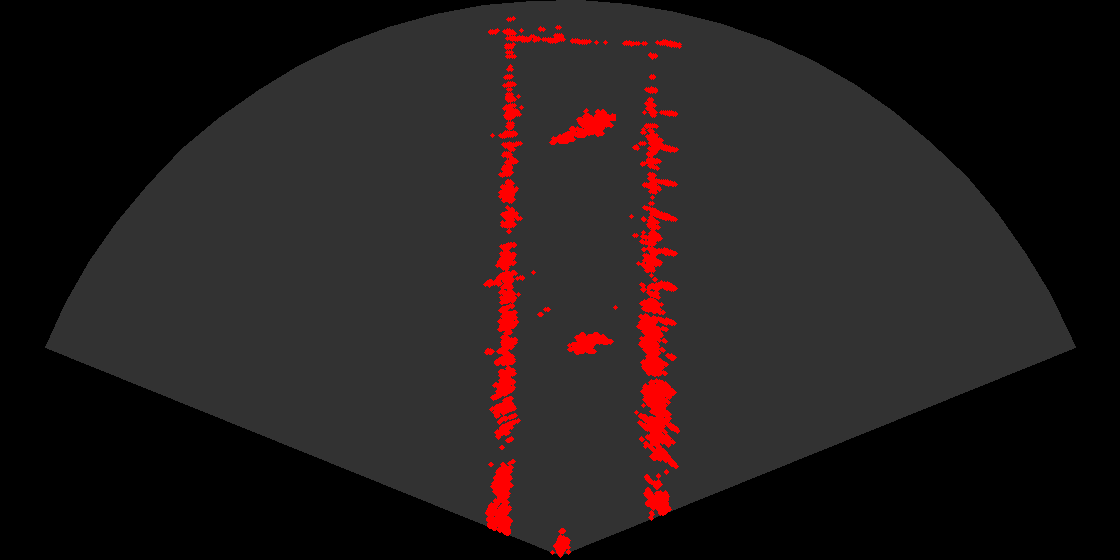AUV: (561, 330, 617, 362)
frogman: (548, 102, 616, 149)
